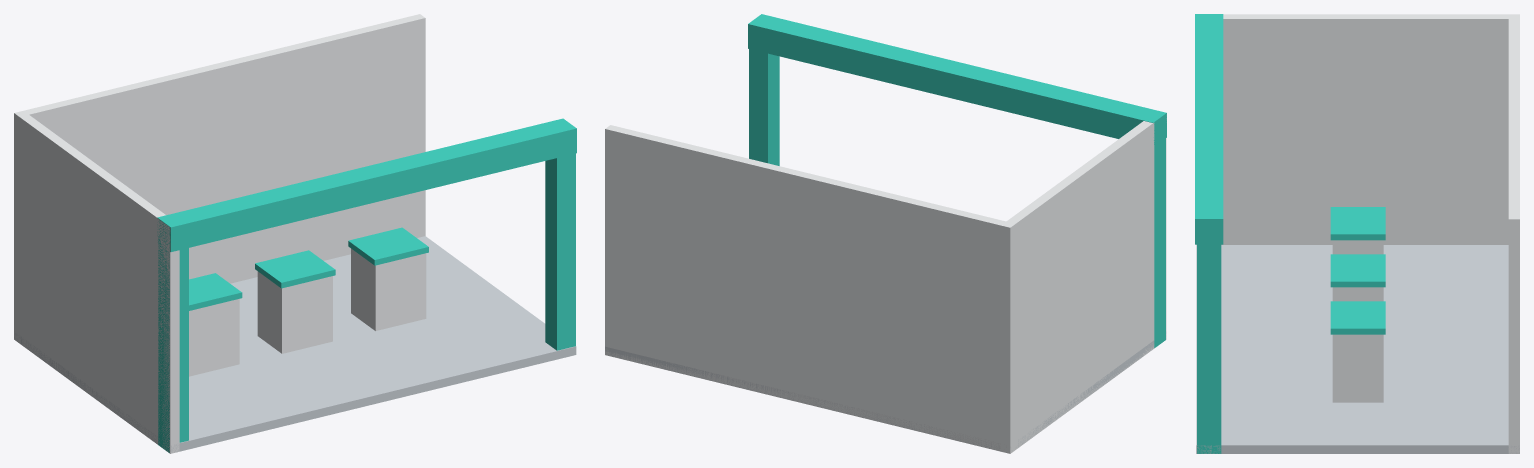
The picture shows the model from 3 angles, left to right: view 1: azimuth 30°, elevation 25°; view 2: azimuth 150°, elevation 25°; view 3: azimuth 270°, elevation 25°; orthographic projection. The views are drawn at different scales.
Parts seen in each view (by area): view 1: Exhibition Booth Concept; view 2: Exhibition Booth Concept; view 3: Exhibition Booth Concept.
Part boxes in pixels (x1,y1,x2,y2): Exhibition Booth Concept: (14,14,576,453); Exhibition Booth Concept: (605,14,1166,453); Exhibition Booth Concept: (1195,14,1519,453).
Size of the model in its own units: 6 by 3.2 by 4.02.
